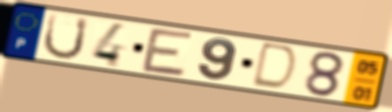4: (87, 21, 128, 69)
8: (302, 50, 346, 98)
9: (195, 36, 239, 83)
D: (248, 41, 300, 93)
E: (139, 25, 196, 79)
U: (40, 12, 91, 61)
